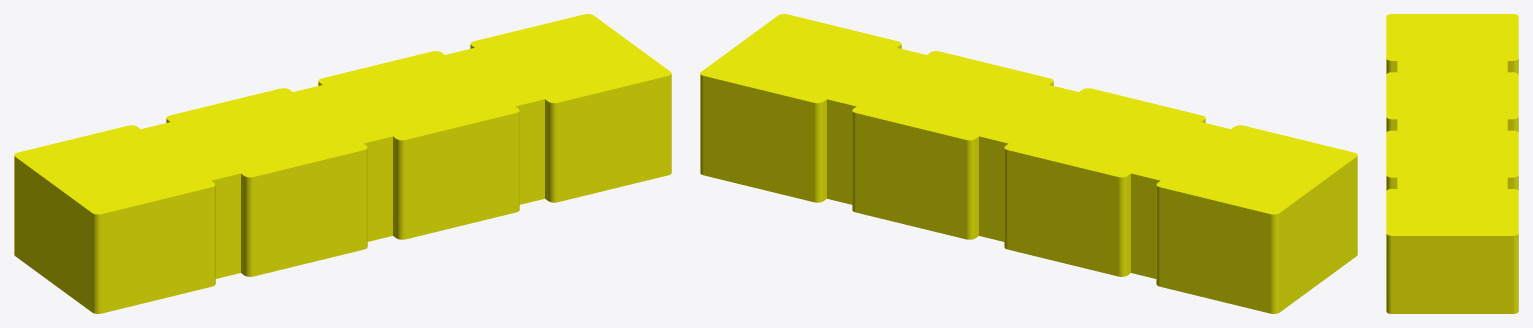
The model's file is PCA9685_v18_169.gltf.
The picture shows the model from 3 angles, left to right: view 1: azimuth 30°, elevation 25°; view 2: azimuth 150°, elevation 25°; view 3: azimuth 270°, elevation 25°; orthographic projection. The views are drawn at different scales.
Parts seen in each view (by area): view 1: mesh6168, mesh6141, mesh6135, mesh6147, mesh6129, mesh6149, mesh6144, mesh6132, mesh6138, mesh6136, mesh6148, mesh6142 (+1 smaller); view 2: mesh6168, mesh6164, mesh6158, mesh6151, mesh6152, mesh6149, mesh6169, mesh6155, mesh6161, mesh6150, mesh6159, mesh6165 (+1 smaller); view 3: mesh6168, mesh6126, mesh6127, mesh6128.
Part boxes in pixels (left/top/right/bottom): mesh6168: left=14, top=14, right=671, bottom=214; mesh6141: left=253, top=150, right=364, bottom=276; mesh6135: left=405, top=113, right=516, bottom=239; mesh6147: left=101, top=187, right=211, bottom=313; mesh6129: left=558, top=76, right=668, bottom=201; mesh6149: left=15, top=157, right=92, bottom=311; mesh6144: left=211, top=173, right=240, bottom=278; mesh6132: left=515, top=99, right=544, bottom=204; mesh6138: left=363, top=136, right=392, bottom=241; mesh6136: left=396, top=139, right=405, bottom=239; mesh6148: left=92, top=213, right=101, bottom=313; mesh6142: left=244, top=176, right=253, bottom=276; mesh6168: left=700, top=14, right=1357, bottom=214; mesh6164: left=1007, top=150, right=1118, bottom=276; mesh6158: left=855, top=113, right=966, bottom=239; mesh6151: left=1160, top=187, right=1270, bottom=313; mesh6152: left=703, top=76, right=813, bottom=201; mesh6149: left=1279, top=157, right=1356, bottom=311; mesh6169: left=1131, top=173, right=1160, bottom=278; mesh6155: left=827, top=99, right=856, bottom=204; mesh6161: left=979, top=136, right=1008, bottom=241; mesh6150: left=1270, top=213, right=1279, bottom=313; mesh6159: left=966, top=139, right=975, bottom=239; mesh6165: left=1118, top=176, right=1127, bottom=276; mesh6168: left=1386, top=14, right=1518, bottom=235; mesh6126: left=1392, top=236, right=1512, bottom=313; mesh6127: left=1513, top=234, right=1518, bottom=313; mesh6128: left=1386, top=234, right=1391, bottom=313.
Bounding box in the file's own units: 0.00974 × 0.0016 × 0.00245.
